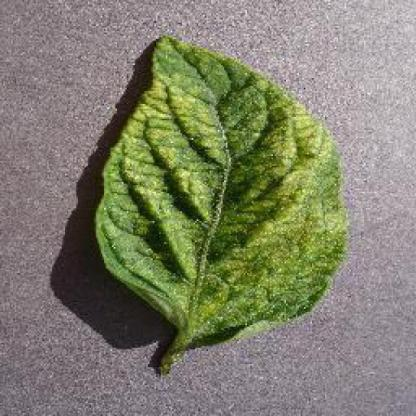Tomato_Spider_Mites: (96, 36, 344, 331)
